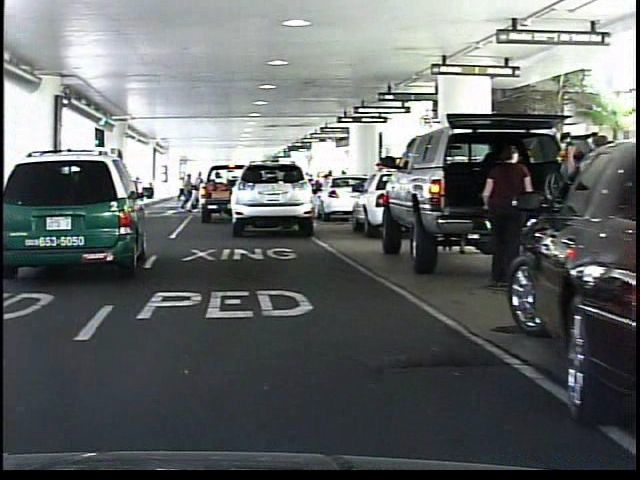person: (470, 143, 533, 285)
